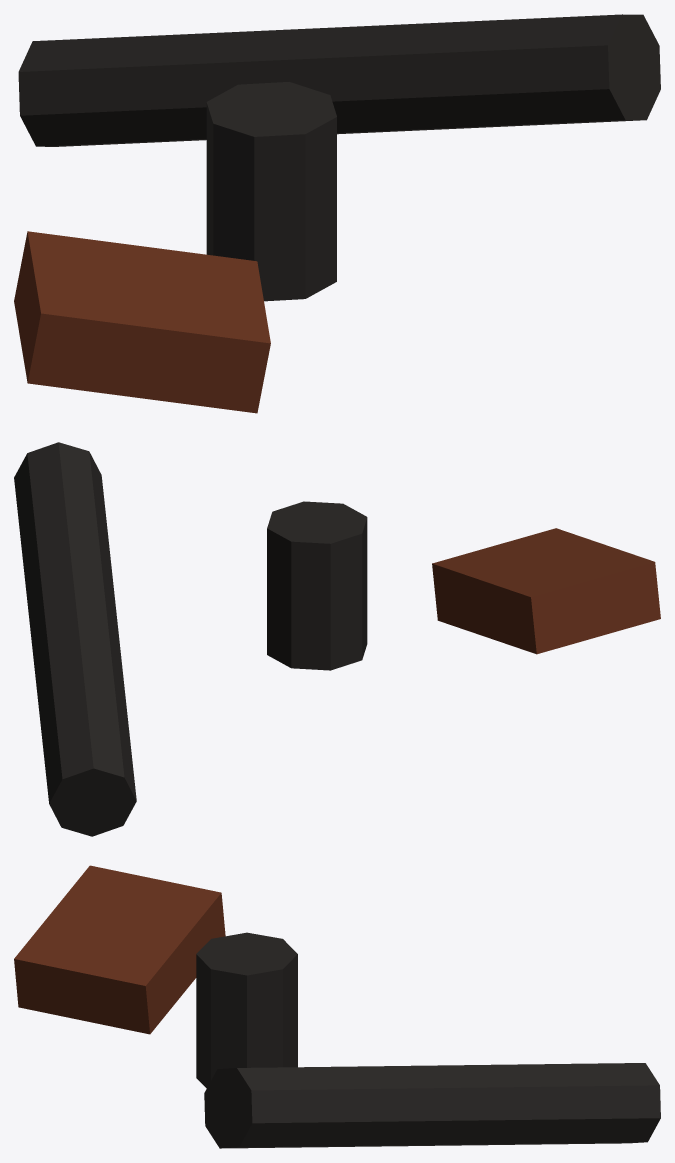
File: RF_Prop_Tree_Destroyed.glb
3 views of the same model, one above another, from view 1: azimuth 30°, elevation 25°; view 2: azimuth 150°, elevation 25°; view 3: azimuth 270°, elevation 25° (orthographic). The views are drawn at different scales.
Visible parts, largest first — view 1: RF_Prop_Tree_Destroyed; view 2: RF_Prop_Tree_Destroyed; view 3: RF_Prop_Tree_Destroyed.
Part boxes in pixels (<box>): RF_Prop_Tree_Destroyed: <box>14,14,660,413</box>; RF_Prop_Tree_Destroyed: <box>14,442,660,836</box>; RF_Prop_Tree_Destroyed: <box>14,865,660,1148</box>.
Size of the model in its own units: 3.27 by 1.06 by 3.31.
